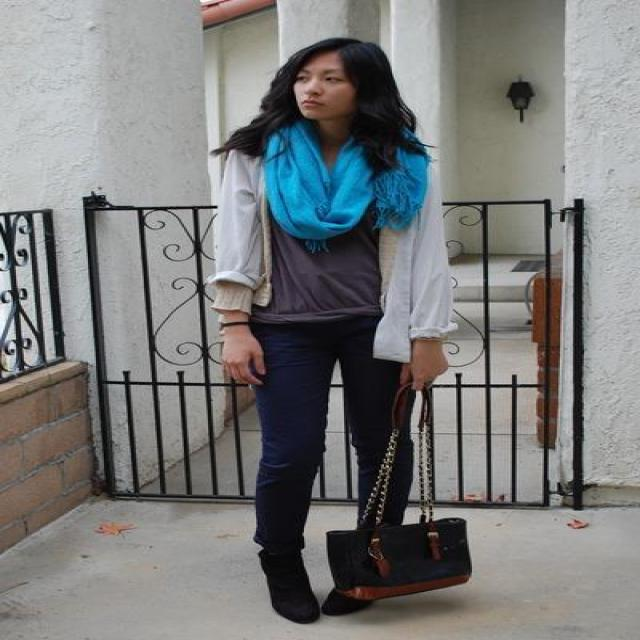bag: (326, 515, 471, 619)
jacket: (202, 140, 466, 362)
pants: (250, 312, 432, 481)
shirt: (222, 218, 381, 337)
shoe: (216, 464, 422, 623)
